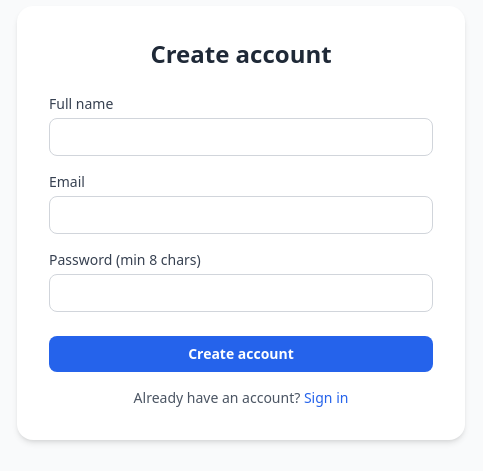
Test: Register Form Validation › shows error for invalid email format
Step 1. Type "Test User" into the field labelled "Full name" → (241, 137), box [49, 118, 433, 156]
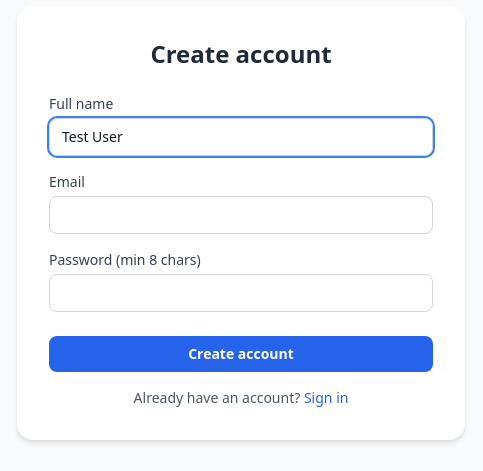
Step 2. Type "bademail" into the field labelled "Email" → (241, 215), box [49, 196, 433, 234]
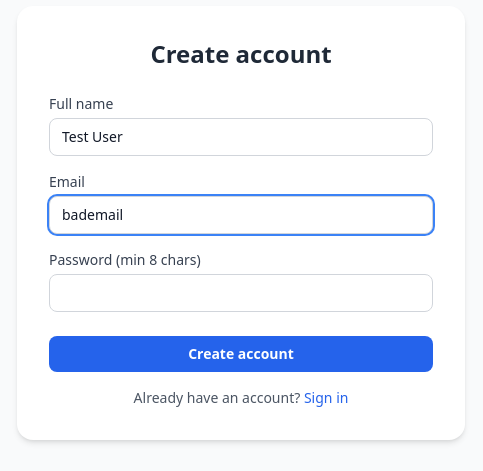
Step 3. Type "password123" into the password field labelled "Password (min 8 chars)" → (241, 293), box [49, 274, 433, 312]
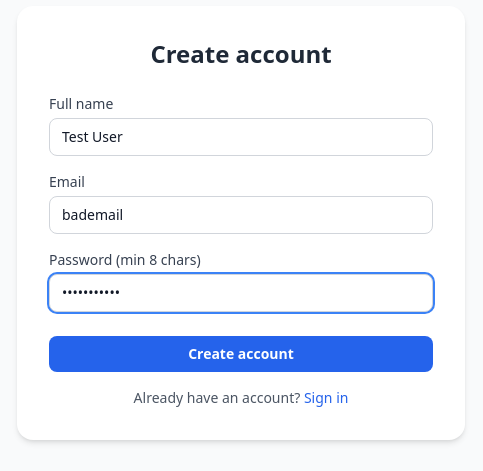
Step 4. Click the button "Create account" → (241, 354), box [49, 336, 433, 372]
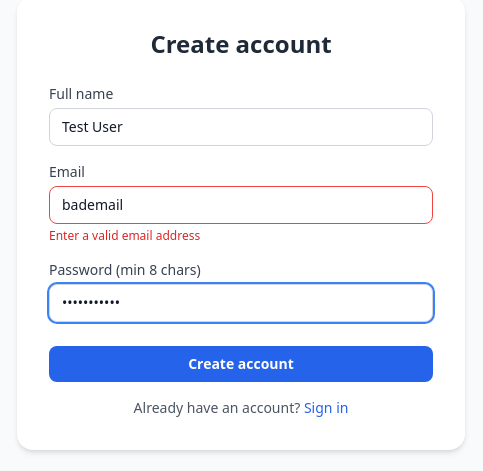
Expected: the text "Enter a valid email address" is shown, [49, 227, 200, 244]
